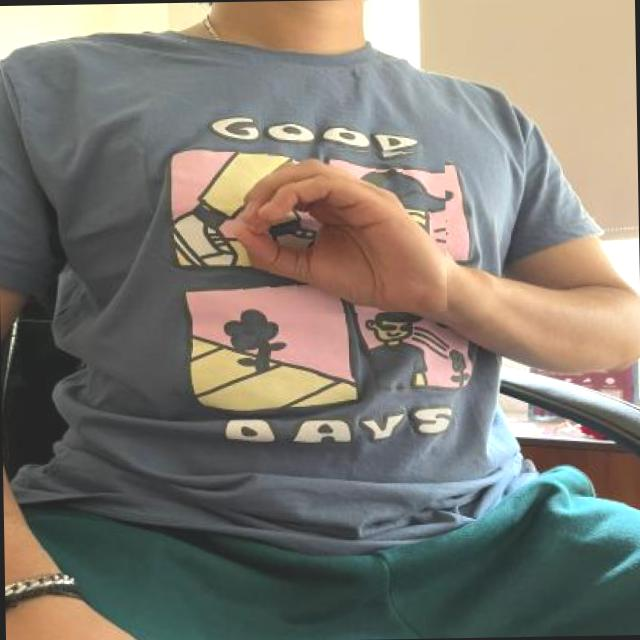O: (226, 143, 447, 314)
